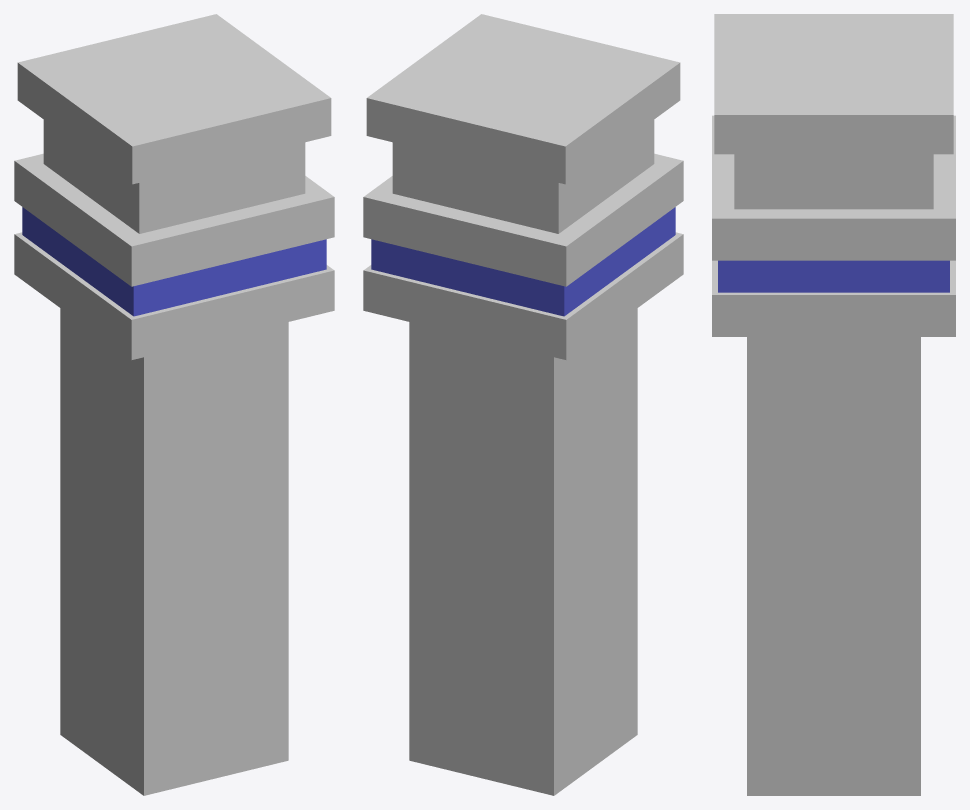
3 views of the same model, side by side, from view 1: azimuth 30°, elevation 25°; view 2: azimuth 150°, elevation 25°; view 3: azimuth 270°, elevation 25° (orthographic). The views are drawn at different scales.
Visible parts, largest first — view 1: Cube; view 2: Cube; view 3: Cube.
Part boxes in pixels (x1,y1,x2,y2): Cube: (14,14,334,795); Cube: (363,14,683,795); Cube: (712,14,955,795).
Size of the model in its own units: 280 by 880 by 280.
